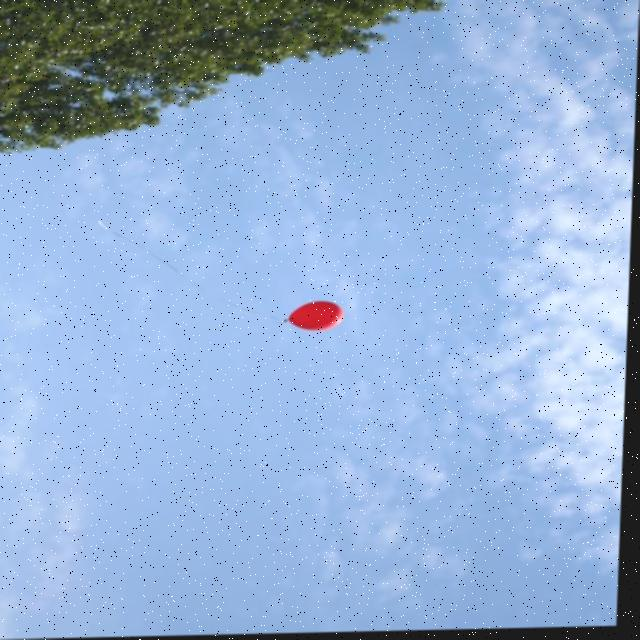balloon: (283, 302, 348, 337)
